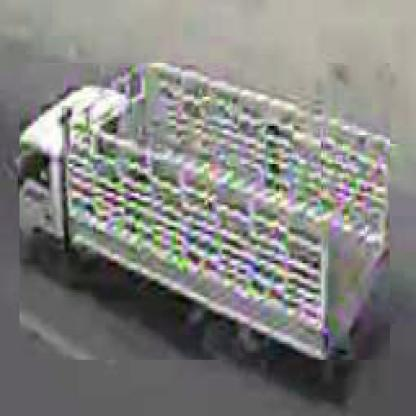truck: (21, 64, 393, 363)
